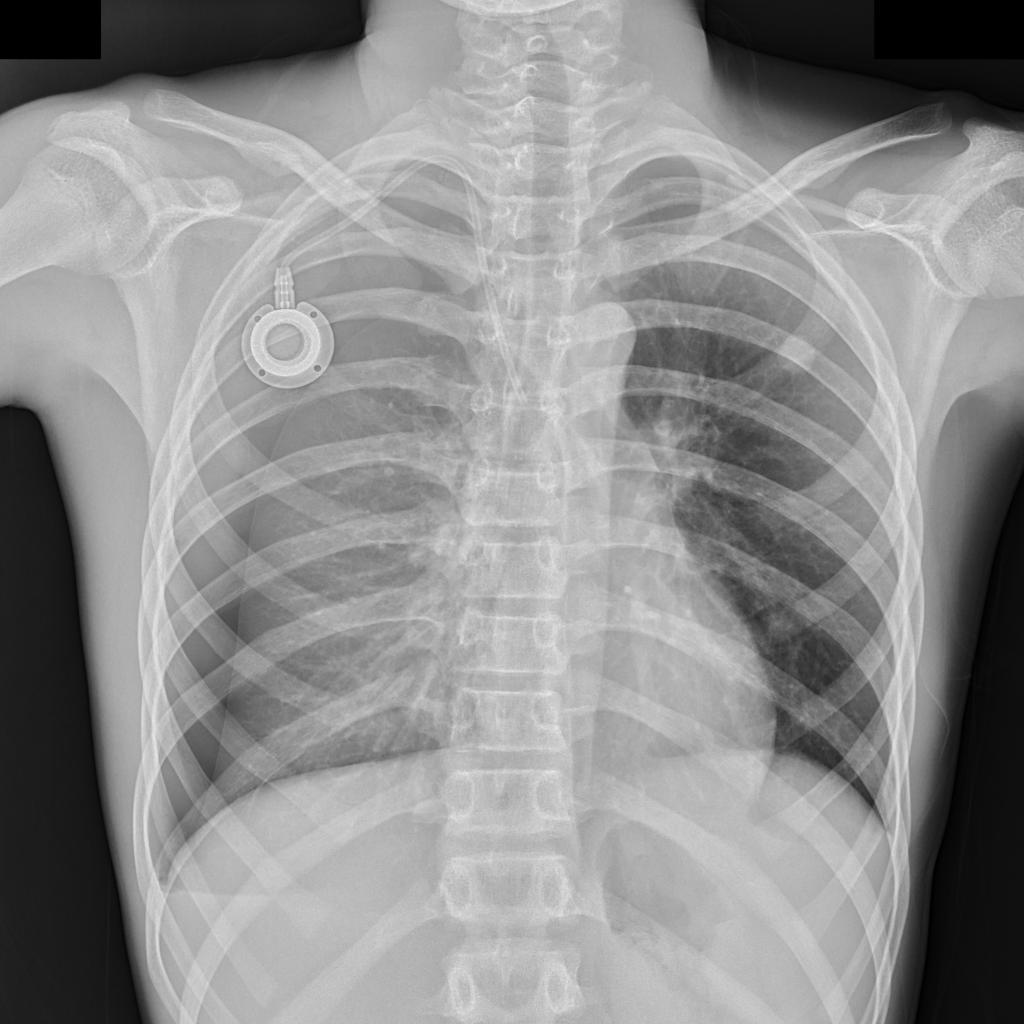Nodule: (778, 332, 817, 376)
